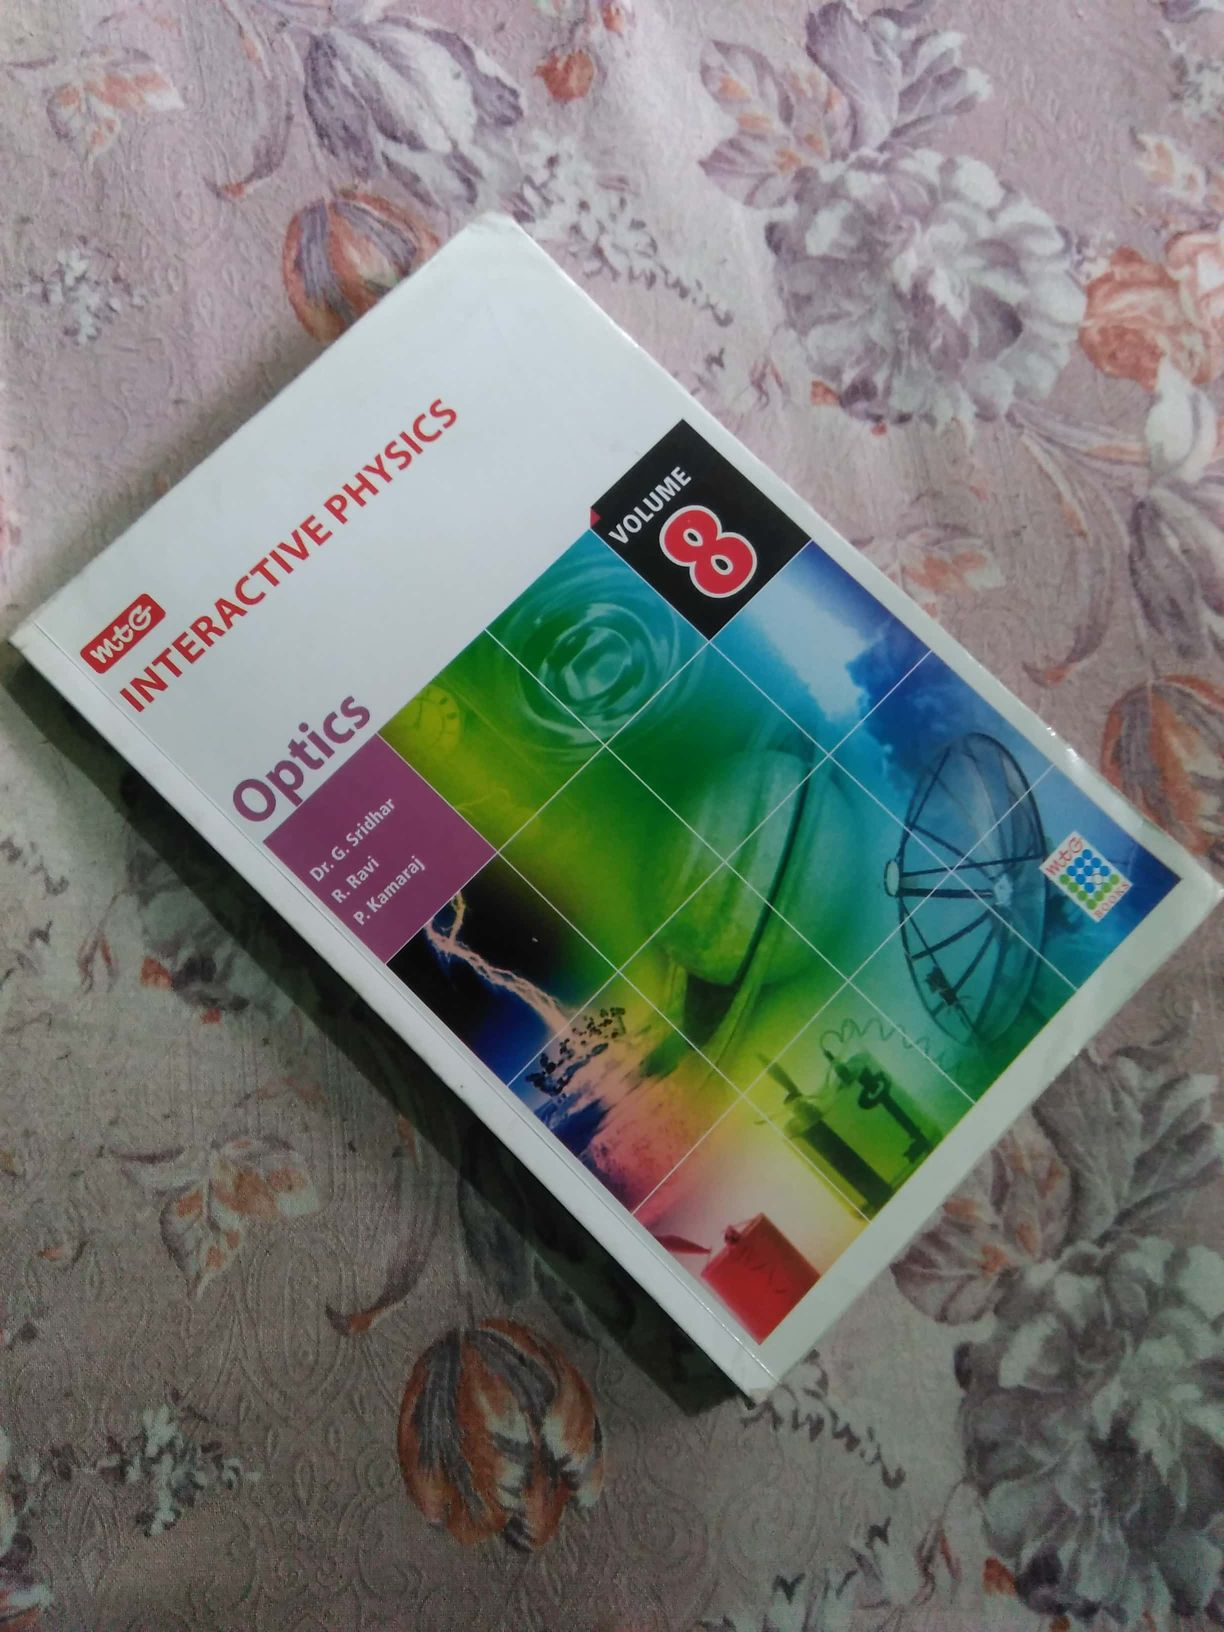optics: (32, 224, 1224, 1456)
